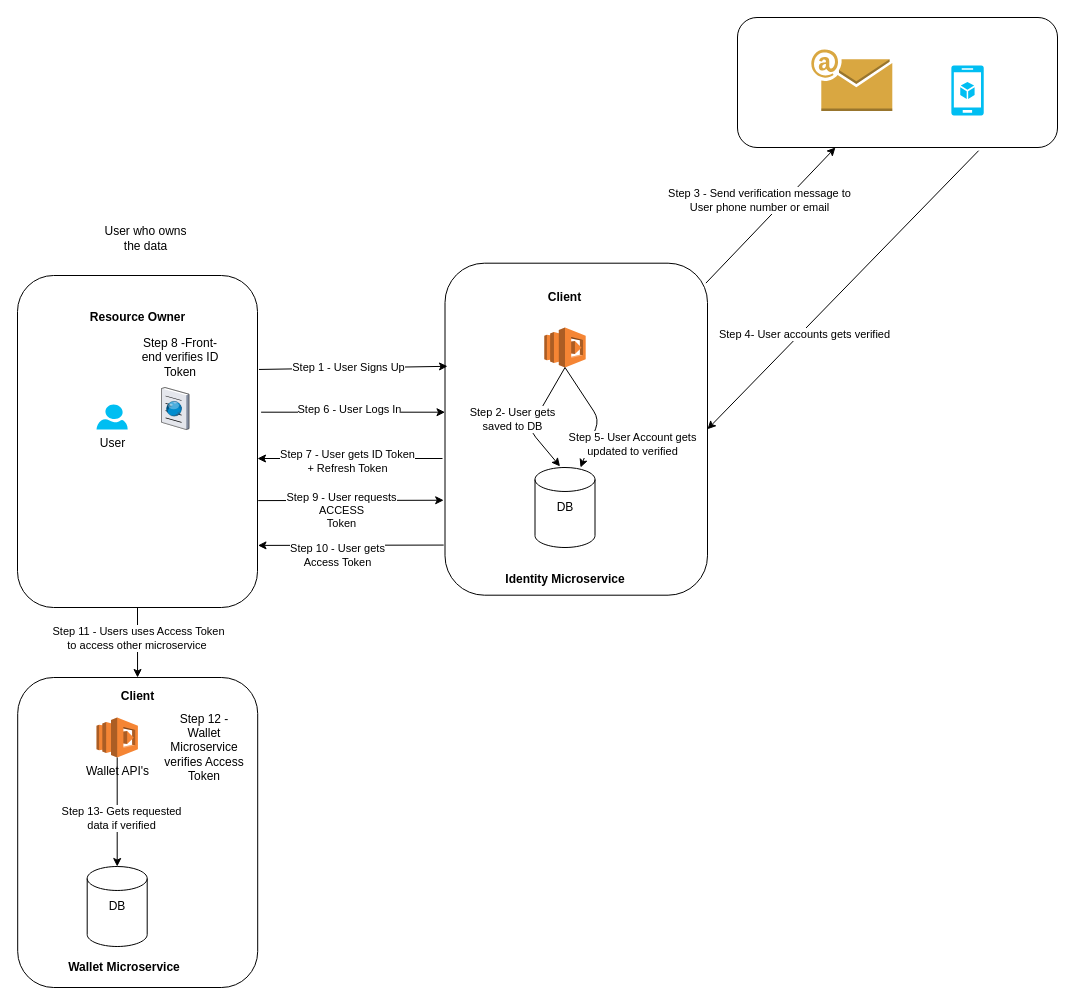
Some shapes in this 1075 by 1005 pixel diagram are drawn without their labels. Here are the shapes that lost their labels. From the top down, the box of each, then its label:
(543, 326, 586, 368): Identity API's
(161, 387, 188, 429): Browser
